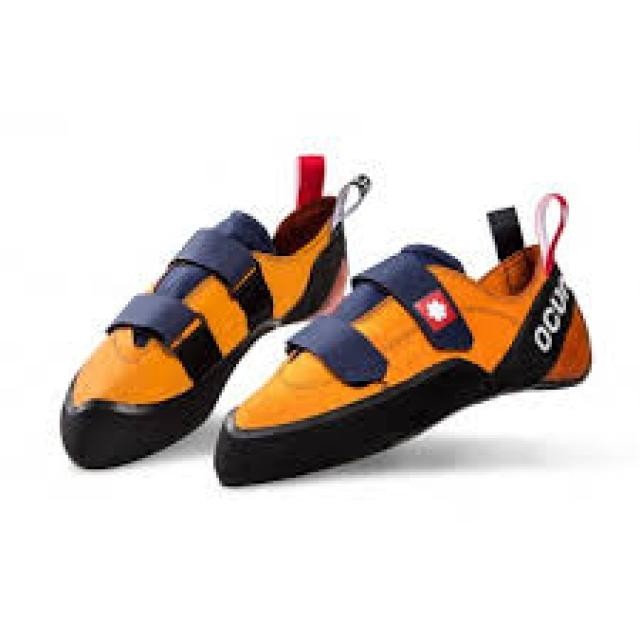climbing-shoes: (215, 192, 594, 492), (57, 152, 373, 472)
